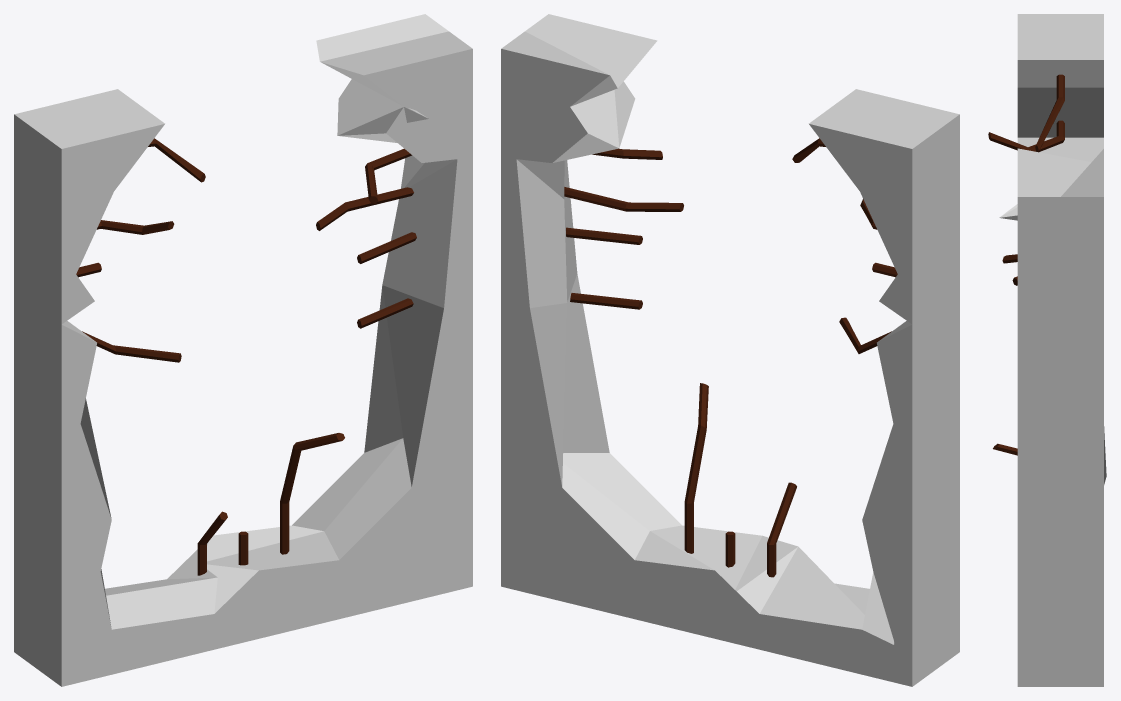
File: wall5.fbx
3 renders of one model, left to right at view 1: azimuth 30°, elevation 25°; view 2: azimuth 150°, elevation 25°; view 3: azimuth 270°, elevation 25°, orthographic. The views are drawn at different scales.
Parts seen in each view (by area): view 1: Cube, Cylinder; view 2: Cube, Cylinder; view 3: Cube, Cylinder.
Boxes of the visible parts, left/top/right/bottom form: Cube: left=14, top=14, right=472, bottom=686; Cylinder: left=76, top=138, right=416, bottom=575; Cube: left=501, top=14, right=959, bottom=686; Cylinder: left=564, top=138, right=897, bottom=577; Cube: left=999, top=14, right=1106, bottom=686; Cylinder: left=988, top=74, right=1064, bottom=455.
Size of the model in its own units: 200 by 250 by 54.68.
